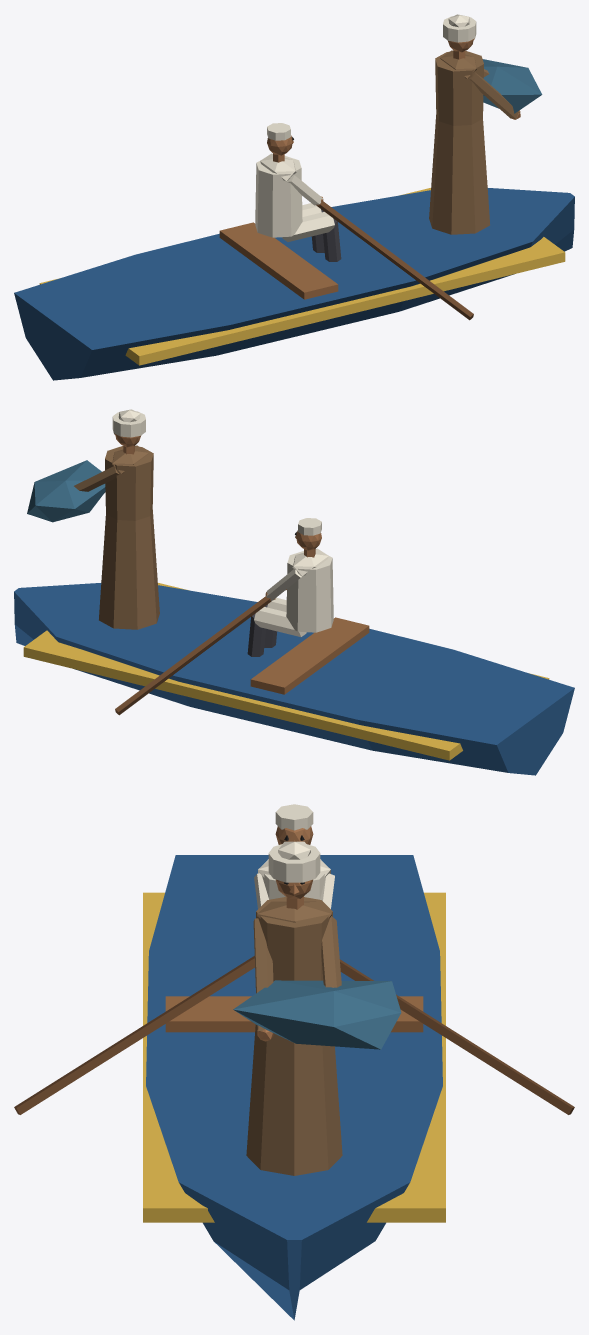
The model's file is fiskebat_nil.glb.
3 views of the same model, one above another, from view 1: azimuth 30°, elevation 25°; view 2: azimuth 150°, elevation 25°; view 3: azimuth 270°, elevation 25° (orthographic). The views are drawn at different scales.
Parts seen in each view (by area): view 1: fiskebat_nil; view 2: fiskebat_nil; view 3: fiskebat_nil.
Boxes of the visible parts, box(x1,y1,x2,y2) form: fiskebat_nil: box(14, 14, 574, 380); fiskebat_nil: box(14, 409, 574, 775); fiskebat_nil: box(14, 804, 574, 1320).
Bounding box in the file's own units: 4.6 × 2.33 × 2.83.
